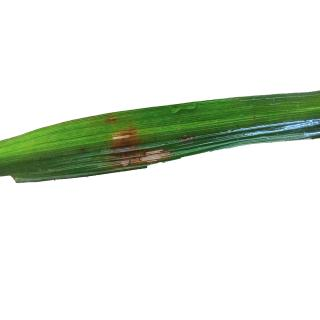Hawar-Daun: (110, 128, 143, 170), (140, 138, 170, 166), (102, 115, 125, 127), (180, 133, 198, 147)
